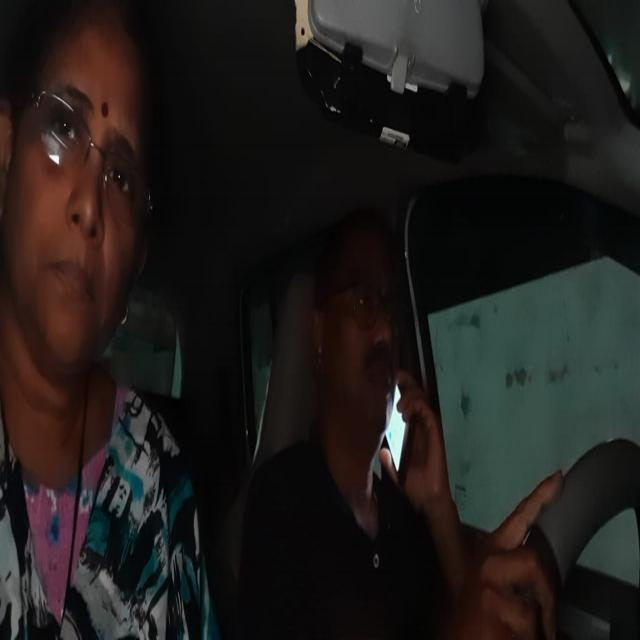mobile: (384, 383, 417, 486)
person: (1, 0, 160, 391), (307, 198, 399, 468)
